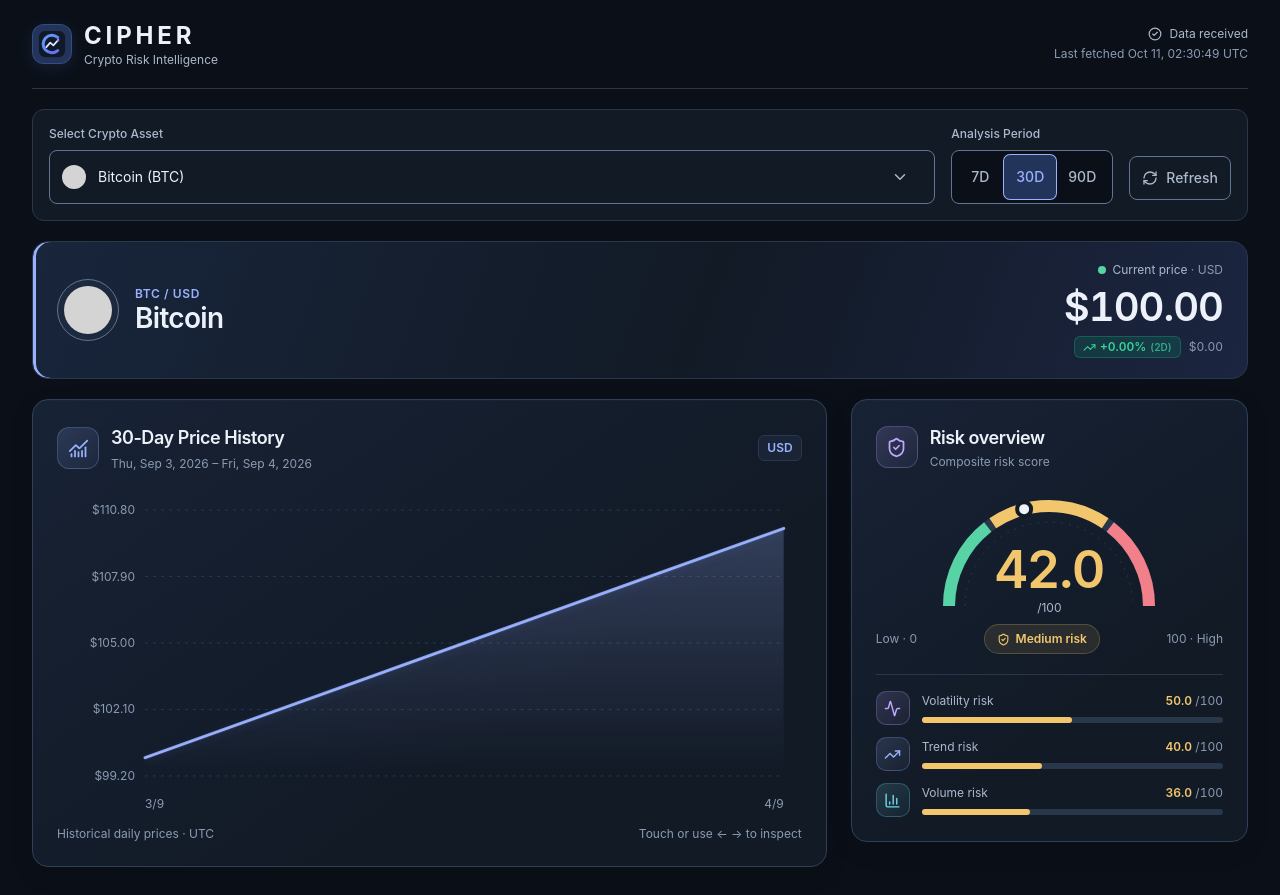
Dashboard data integrity › requests an updated backend result when returning to an already cached period
The width and height of the screenshot is (1280, 895).
Expected: the element named "Selected asset and current price" shows "$100.00", [1064,282,1223,331]
Click the button named "90 Days": (1082, 177) [1056,155,1108,199]
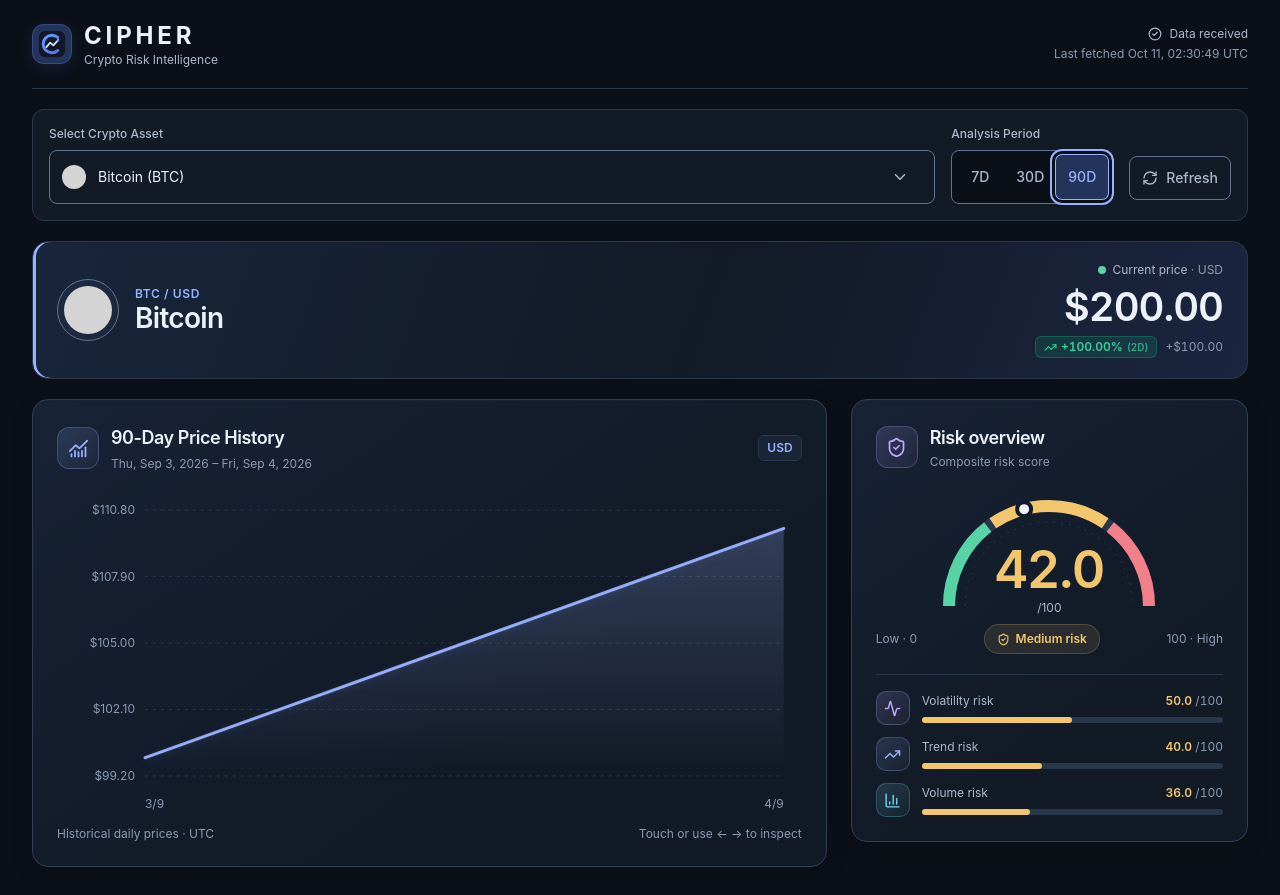
Result: the element named "Selected asset and current price" shows "$200.00" at [1064,282,1223,331]
Click the button named "30 Days": (1030, 177) [1004,155,1056,199]
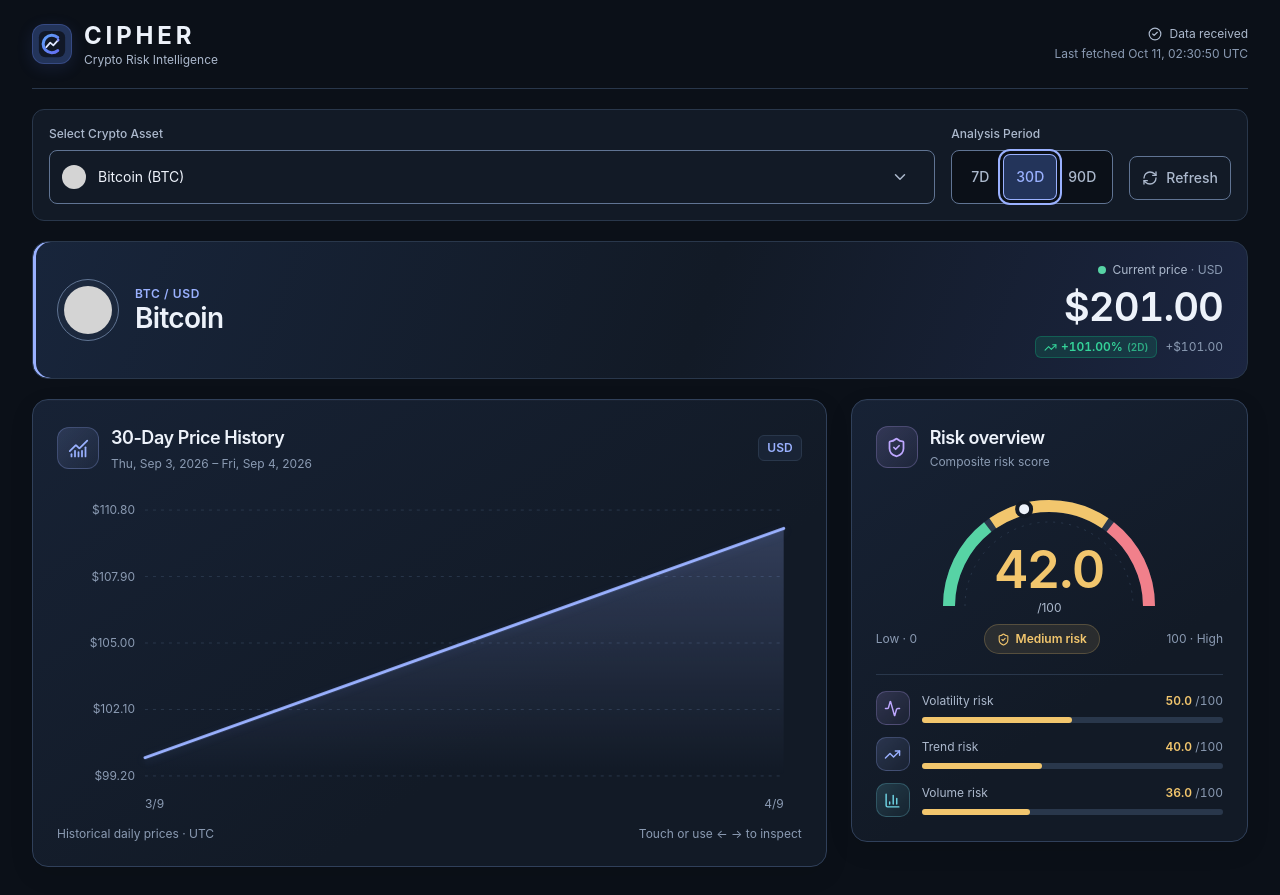
Result: the element named "Selected asset and current price" shows "$201.00" at [1064,282,1223,331]
